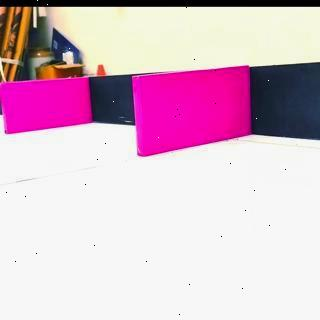xparking: (133, 76, 250, 154), (2, 81, 90, 133)
